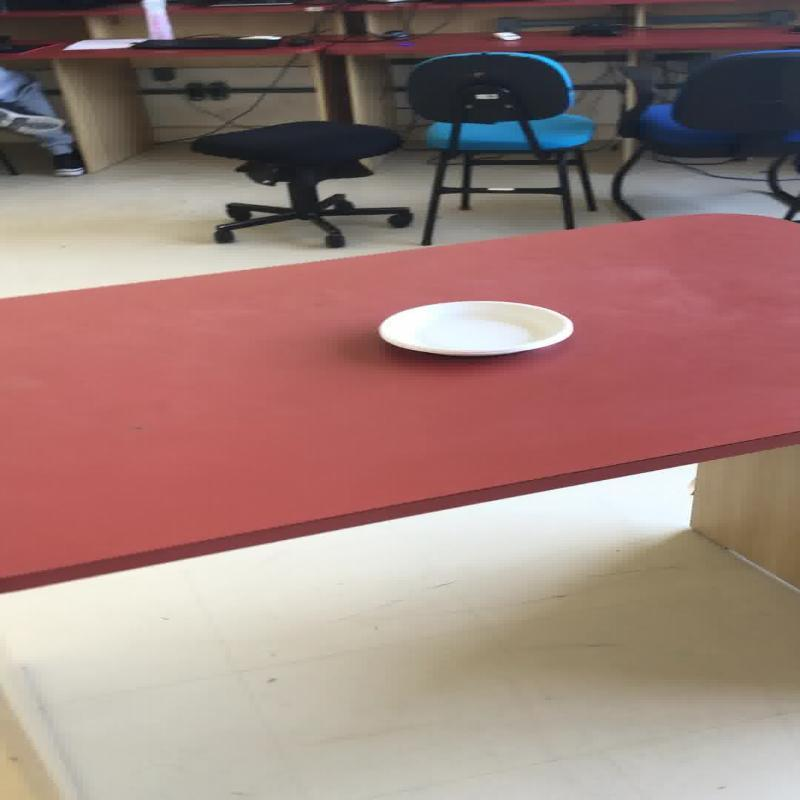plate: (376, 299, 574, 357)
